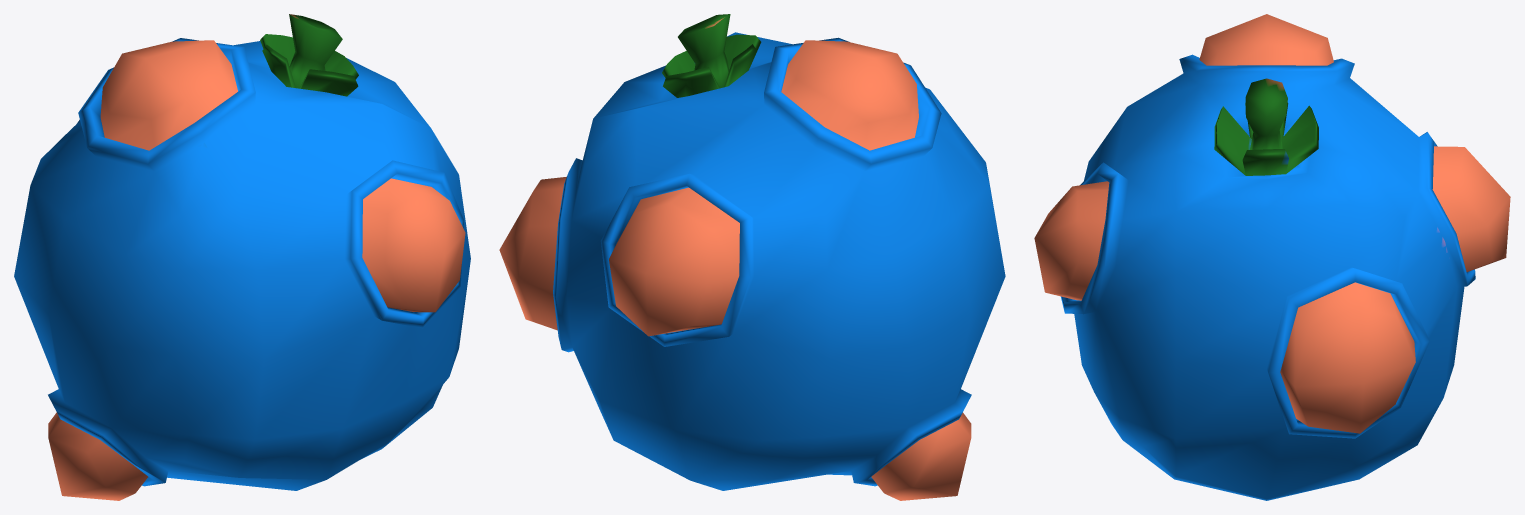
File: Applecott.fbx
The picture shows the model from 3 angles, left to right: view 1: azimuth 30°, elevation 25°; view 2: azimuth 150°, elevation 25°; view 3: azimuth 270°, elevation 25°; orthographic projection. The views are drawn at different scales.
Parts seen in each view (by area): view 1: pCube1; view 2: pCube1; view 3: pCube1.
Boxes of the visible parts, left/top/right/bottom form: pCube1: left=14, top=14, right=470, bottom=500; pCube1: left=499, top=14, right=1005, bottom=500; pCube1: left=1034, top=14, right=1510, bottom=500.
Bounding box in the file's own units: 0.2518 × 0.2491 × 0.2563.
Materials: 1 (1 with a texture image).
